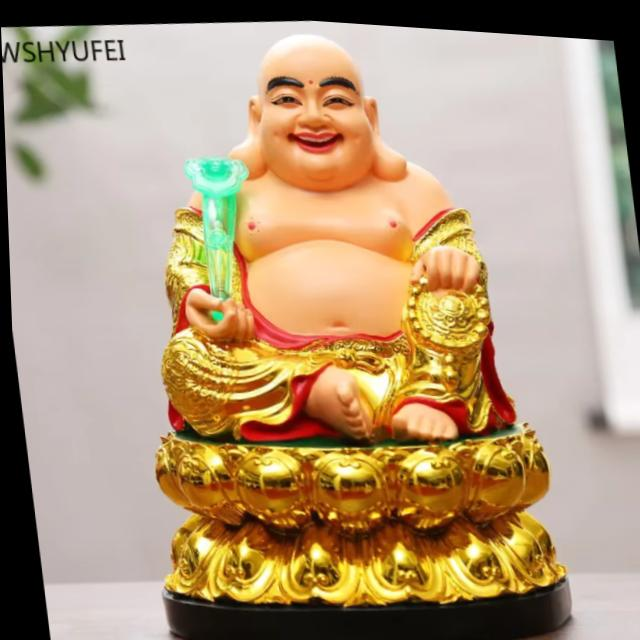Smiling Buddha: (142, 7, 509, 469)
